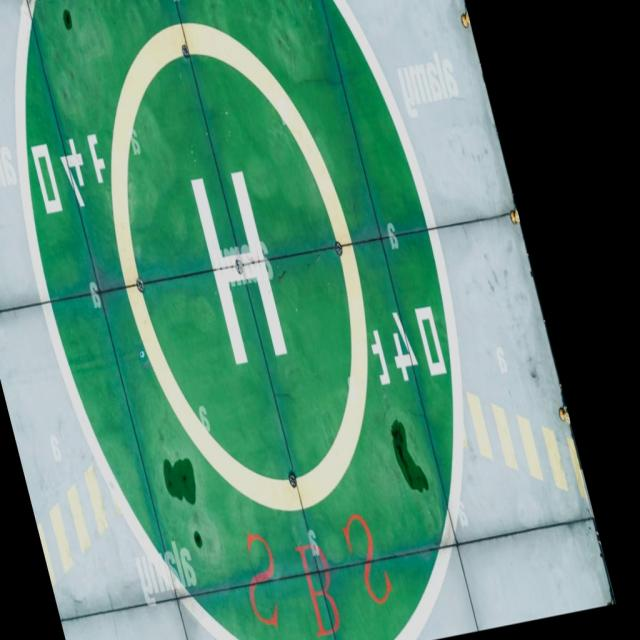helipad: (104, 17, 371, 515)
